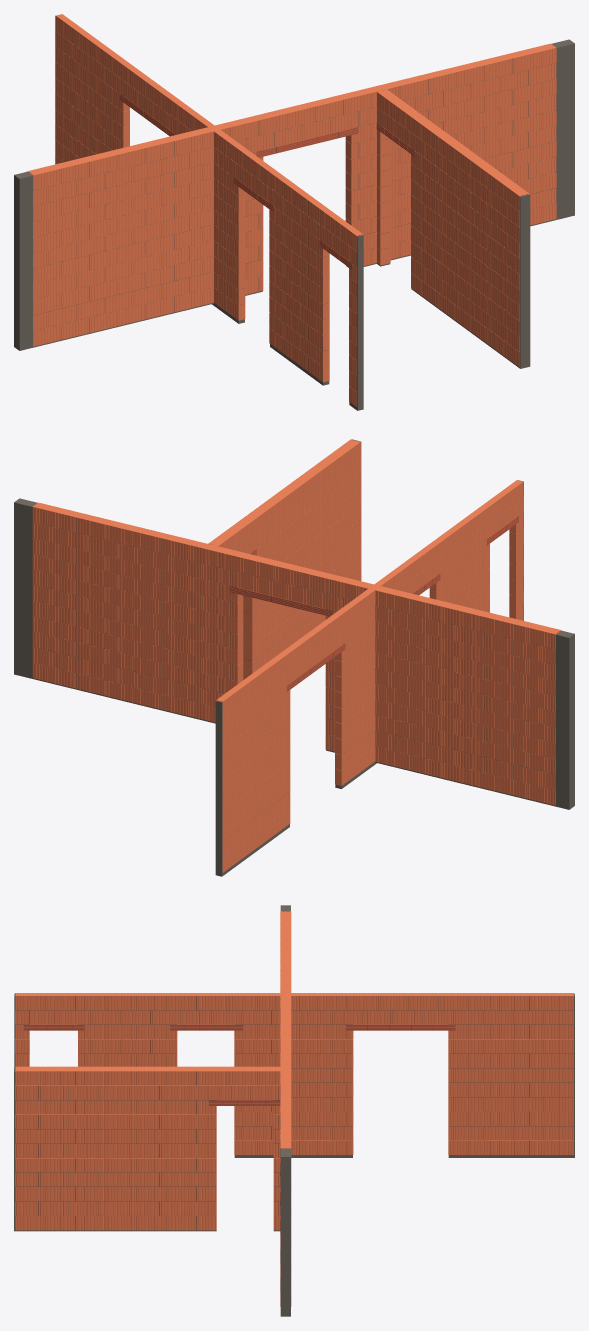
File: Innenwände_einzeln.fbx
3 renders of one model, top to bottom at view 1: azimuth 30°, elevation 25°; view 2: azimuth 150°, elevation 25°; view 3: azimuth 270°, elevation 25°, orthographic. The views are drawn at different scales.
Parts seen in each view (by area): view 1: Mörtel_nichtragend, Tragender Innenziegel.025, Tragender Innenziegel.024, Nichtragender Innenziegel.014, Tragender Innenziegel.023, Tragender Innenziegel.021, Tragender Innenziegel.020, Tragender Innenziegel.022, Tragender Innenziegel.019, Tragender Innenziegel.018, Tragender Innenziegel.017, Nichtragender Innenziegel.013 (+23 smaller); view 2: Mörtel_nichtragend, Tragender Innenziegel.025, Tragender Innenziegel.024, Nichtragender Innenziegel.014, Tragender Innenziegel.018, Tragender Innenziegel.019, Tragender Innenziegel.020, Tragender Innenziegel.017, Tragender Innenziegel.021, Tragender Innenziegel.022, Tragender Innenziegel.023, Tragender Innenziegel.016 (+22 smaller); view 3: Nichtragender Innenziegel.014, Nichtragender Innenziegel.013, Mörtel_nichtragend, Tragender Innenziegel.014, Nichtragender Innenziegel.011, Nichtragender Innenziegel.012, Nichtragender Innenziegel.010, Tragender Innenziegel.012, Nichtragender Innenziegel.005, Nichtragender Innenziegel.004, Nichtragender Innenziegel.006, Tragender Innenziegel.004 (+13 smaller).
Part boxes in pixels (x1,y1,x2,y2): Mörtel_nichtragend: (14, 16, 574, 410); Tragender Innenziegel.025: (27, 43, 556, 190); Tragender Innenziegel.024: (33, 63, 556, 206); Nichtragender Innenziegel.014: (55, 14, 363, 250); Tragender Innenziegel.023: (33, 79, 556, 221); Tragender Innenziegel.021: (33, 110, 556, 252); Tragender Innenziegel.020: (33, 126, 556, 268); Tragender Innenziegel.022: (33, 94, 556, 237); Tragender Innenziegel.019: (33, 141, 556, 284); Tragender Innenziegel.018: (33, 157, 556, 299); Tragender Innenziegel.017: (33, 172, 556, 315); Nichtragender Innenziegel.013: (56, 31, 356, 266); Mörtel_nichtragend: (14, 439, 574, 876); Tragender Innenziegel.025: (32, 502, 561, 649); Tragender Innenziegel.024: (32, 522, 555, 665); Nichtragender Innenziegel.014: (216, 480, 523, 716); Tragender Innenziegel.018: (32, 616, 555, 758); Tragender Innenziegel.019: (32, 600, 555, 743); Tragender Innenziegel.020: (32, 585, 555, 727); Tragender Innenziegel.017: (32, 631, 555, 774); Tragender Innenziegel.021: (32, 569, 555, 711); Tragender Innenziegel.022: (32, 553, 555, 696); Tragender Innenziegel.023: (32, 538, 555, 680); Tragender Innenziegel.016: (32, 647, 555, 789); Nichtragender Innenziegel.014: (15, 993, 573, 1010); Nichtragender Innenziegel.013: (15, 1010, 573, 1024); Mörtel_nichtragend: (14, 905, 574, 1316); Tragender Innenziegel.014: (15, 1066, 280, 1085); Nichtragender Innenziegel.011: (15, 1039, 573, 1053); Nichtragender Innenziegel.012: (15, 1025, 573, 1039); Nichtragender Innenziegel.010: (15, 1054, 573, 1067); Tragender Innenziegel.012: (15, 1085, 279, 1099); Nichtragender Innenziegel.005: (234, 1126, 573, 1140); Nichtragender Innenziegel.004: (234, 1140, 573, 1154); Nichtragender Innenziegel.006: (234, 1111, 573, 1125); Tragender Innenziegel.004: (15, 1216, 280, 1230).
Size of the model in its own units: 954 by 287 by 900.
